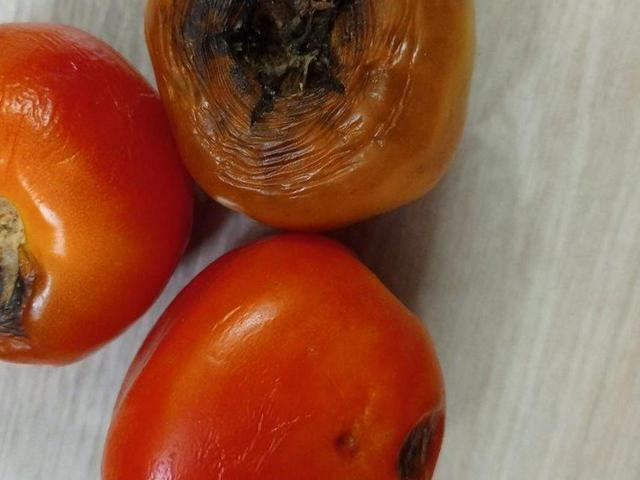defect: (100, 230, 451, 480), (141, 0, 480, 232), (0, 15, 192, 366)
